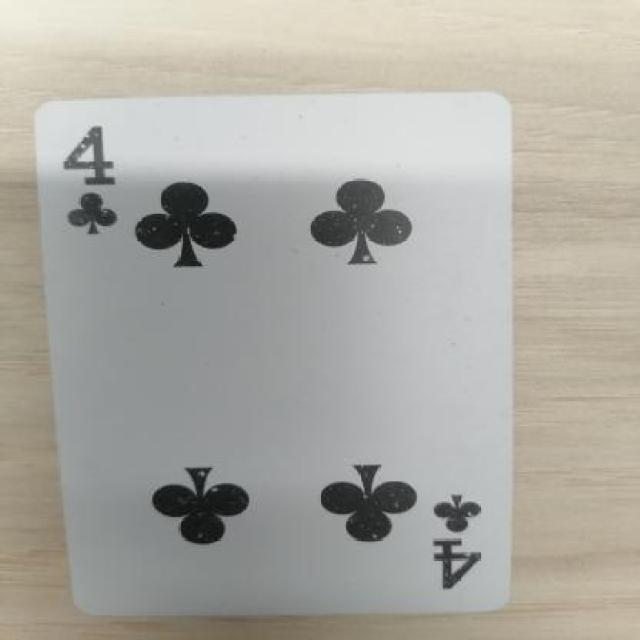4C: (43, 108, 137, 247), (412, 486, 523, 591)
